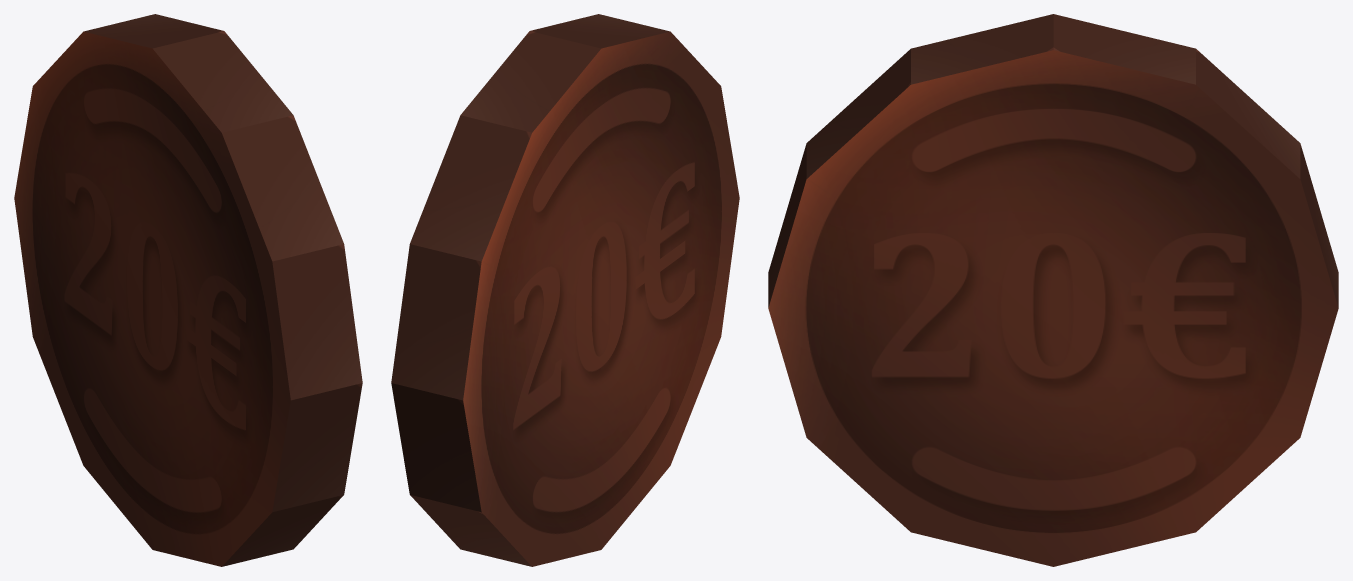
Rendered from Dropmunt_model.fbx.
The picture shows the model from 3 angles, left to right: view 1: azimuth 30°, elevation 25°; view 2: azimuth 150°, elevation 25°; view 3: azimuth 270°, elevation 25°; orthographic projection. The views are drawn at different scales.
Parts seen in each view (by area): view 1: Dropmunt; view 2: Dropmunt; view 3: Dropmunt.
Boxes of the visible parts, x1=… form: Dropmunt: x1=14, y1=14, x2=362, y2=566; Dropmunt: x1=391, y1=14, x2=739, y2=566; Dropmunt: x1=768, y1=14, x2=1338, y2=566.
Bounding box in the file's own units: 9.53 × 63.53 × 63.53.
